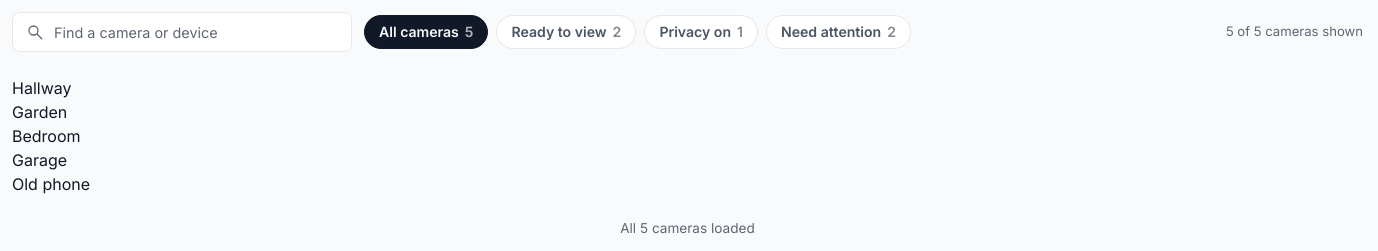
Scenario: camera browsing › searches names and source devices, ignoring case and surrounding spaces
Type "  PIXEL  " into the search field named "Search cameras" at coordinates (196, 32), box [54,13,338,51]
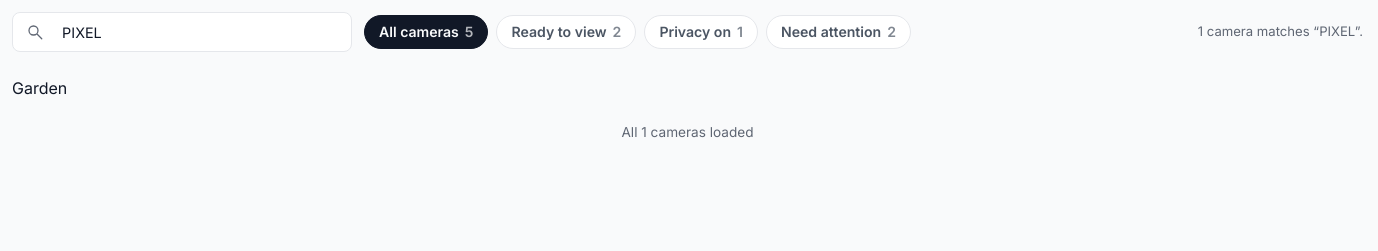
Expected: the list item reads "Garden", [12,78,67,98]
Expected: the message reads "1 camera matches “PIXEL”.", [1198,23,1363,39]
